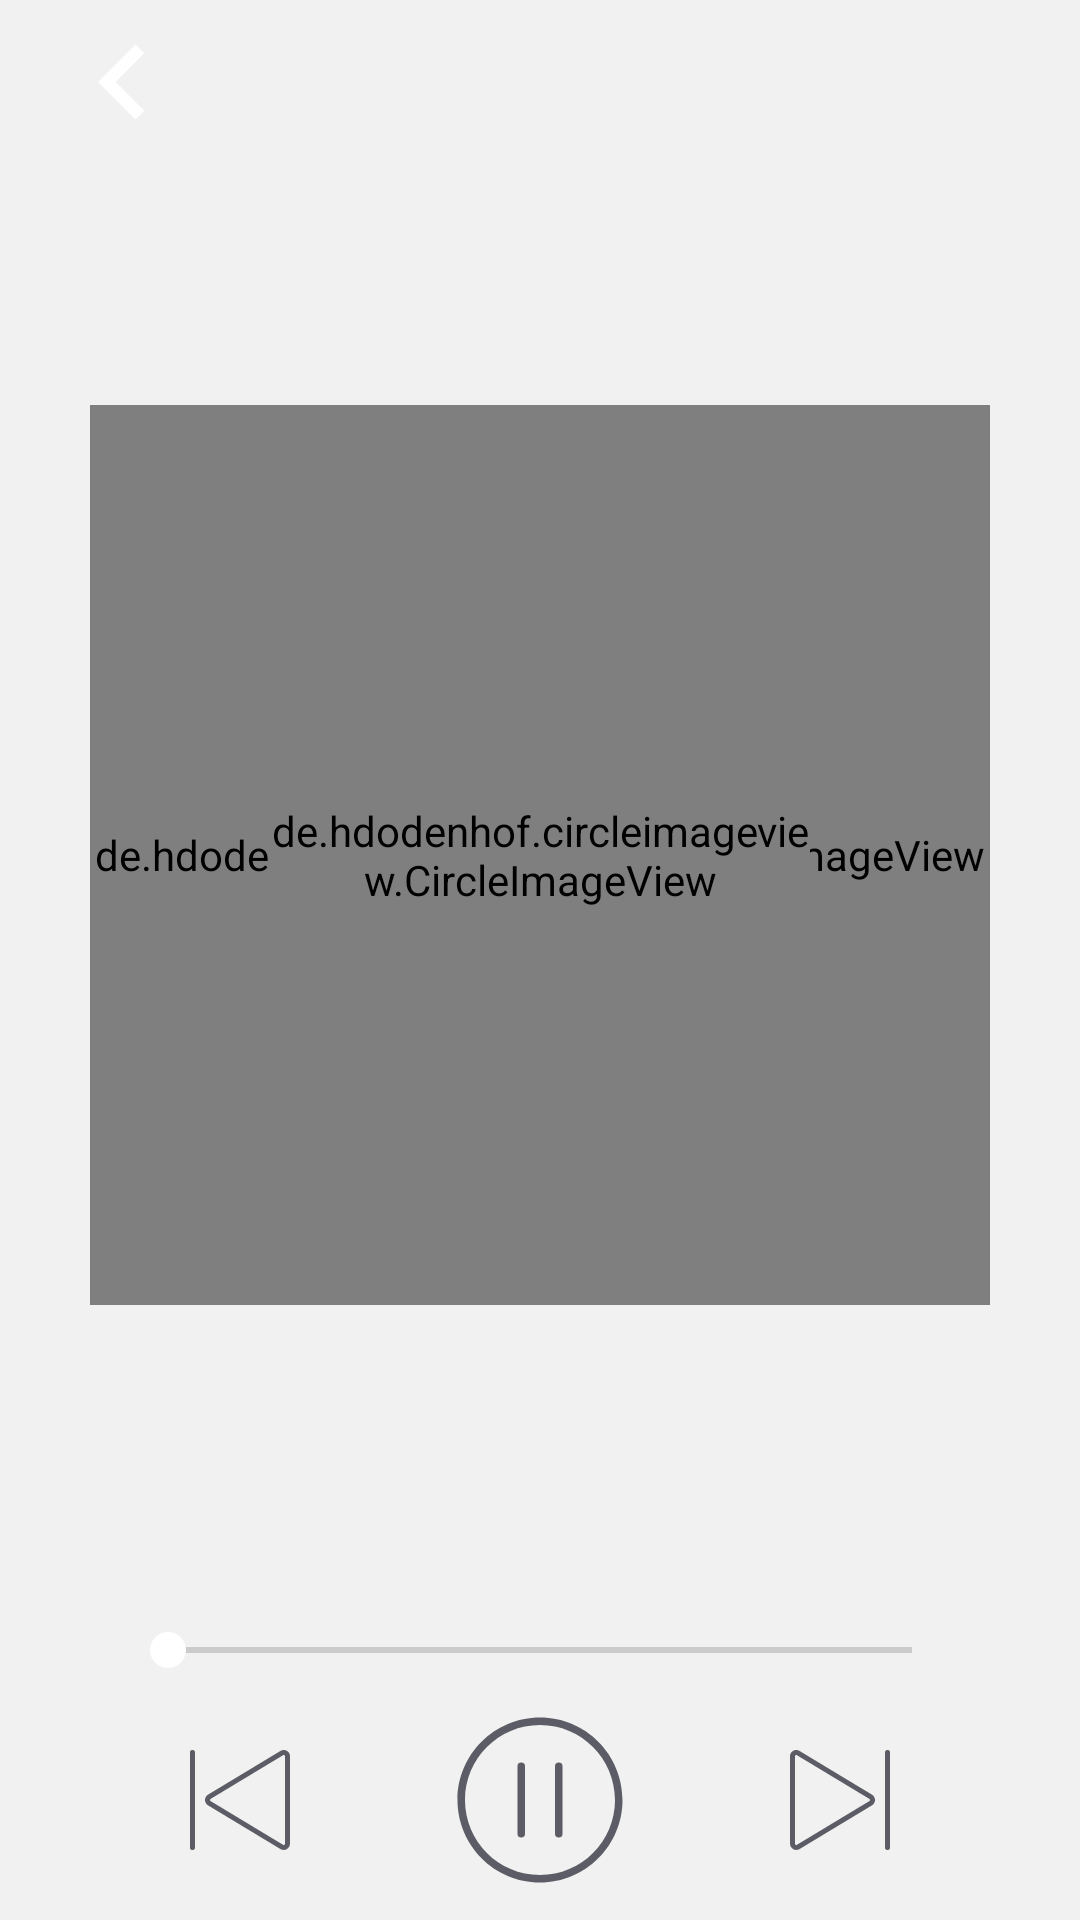

Icons on this 1080x1920 Android screen, each with the point to tap as (x,y):
song next: (840,1800)
song pausecircle: (540,1800)
song previous: (240,1800)
